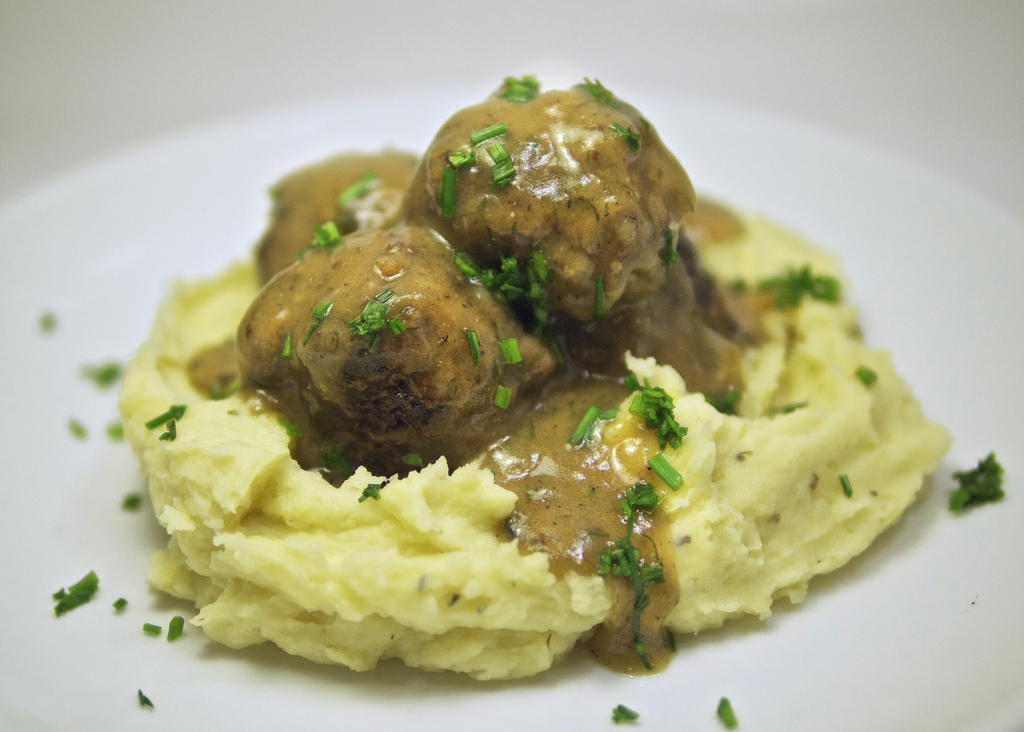meatballs: (270, 234, 532, 439), (436, 90, 685, 296)
